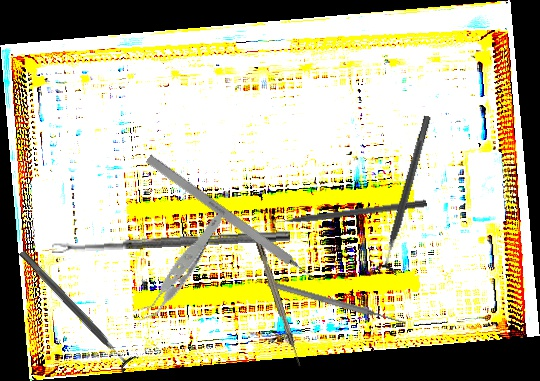Fixation Ring: (12, 243, 141, 374), (373, 113, 441, 276)
Hook Surgical: (145, 154, 325, 288), (254, 237, 303, 368)
Pusher: (266, 279, 409, 328), (265, 198, 427, 227)
Surgical Spoon: (51, 229, 291, 254)
Tissue Forceps: (108, 210, 250, 325)
